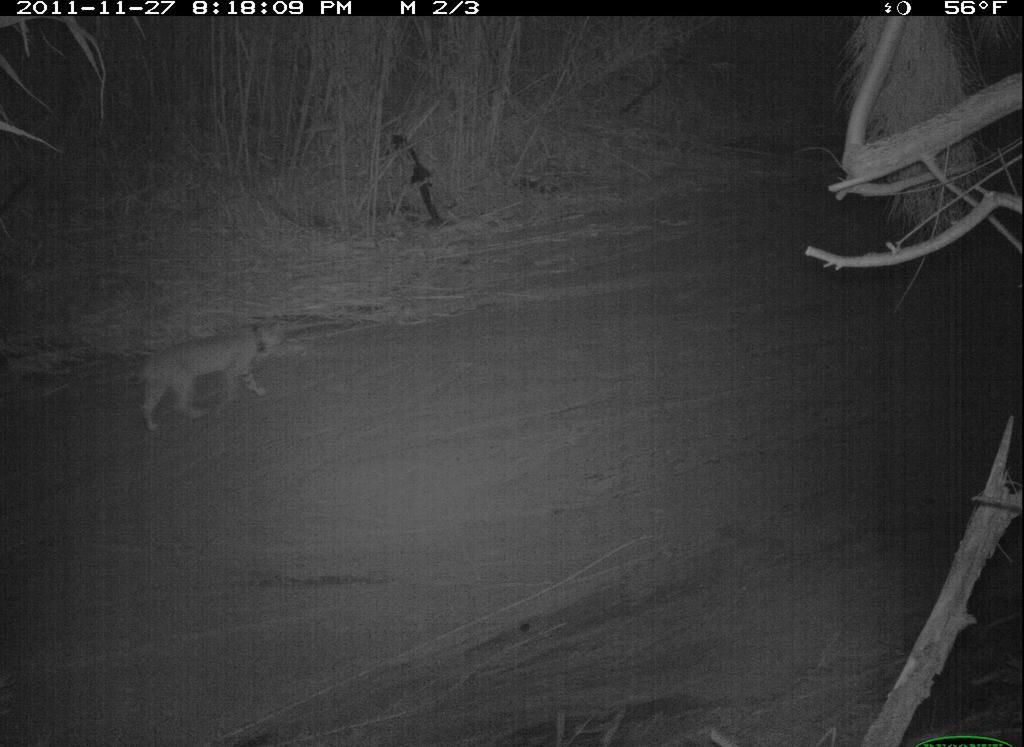bobcat: (117, 314, 289, 442)
